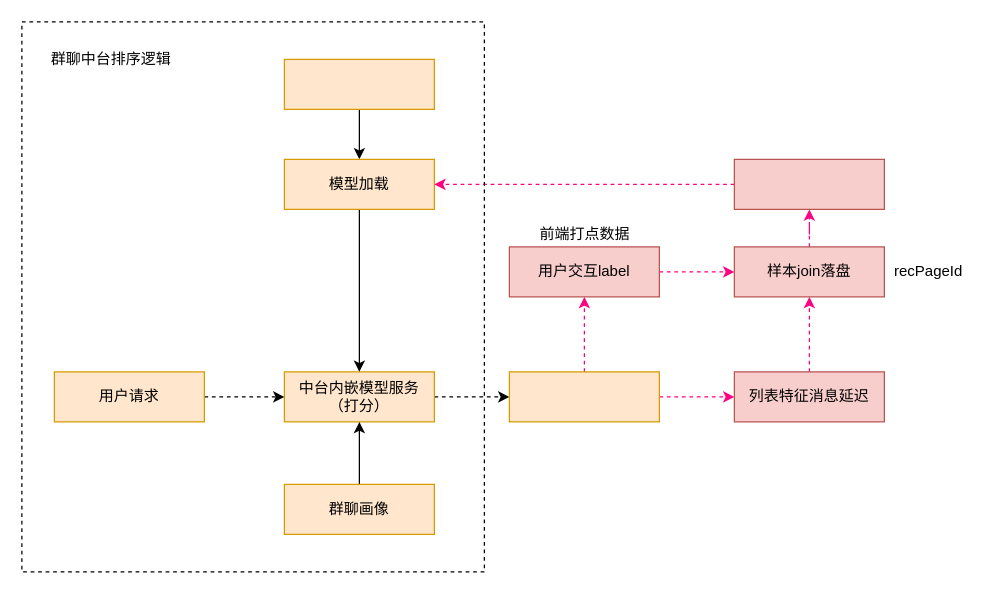
Some shapes in this 994 by 594 pixel diagram are drawn without their labels. The centre of each missing label's shape, as x and y in pixels:
房间列表: the point at 583,396
模型训练: the point at 808,183
配置中心: the point at 358,83
